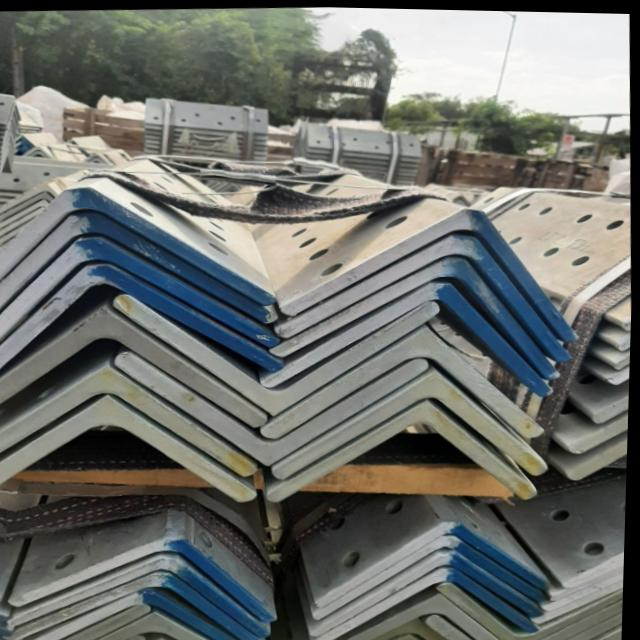metal-angles: (282, 206, 581, 340), (115, 293, 443, 414), (277, 232, 574, 358), (270, 254, 563, 377), (115, 350, 430, 464), (261, 280, 555, 394), (0, 185, 280, 304), (263, 324, 547, 437), (0, 307, 270, 425), (0, 210, 281, 320), (0, 262, 286, 370), (0, 236, 282, 345), (275, 367, 552, 477), (0, 363, 260, 474), (268, 397, 539, 500), (0, 394, 260, 501), (11, 534, 281, 619), (10, 556, 274, 636), (318, 518, 554, 606), (314, 548, 548, 635), (315, 532, 549, 618), (8, 572, 268, 640), (315, 565, 545, 640), (440, 580, 627, 640), (39, 590, 243, 640), (344, 590, 508, 640), (98, 610, 215, 640)
